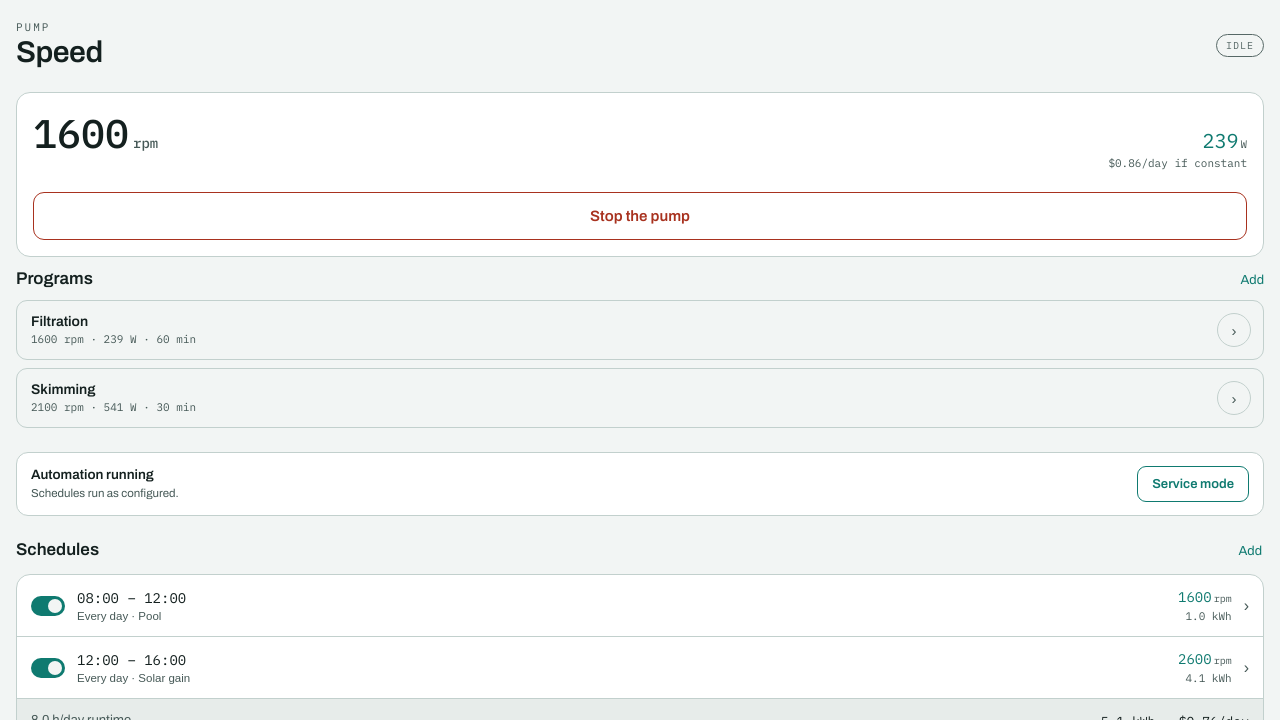
Test: Pump — programs › opens the editor for an existing program
Step 1. Click the button named "Edit Filtration" → (1234,330), box [1217, 313, 1251, 347]
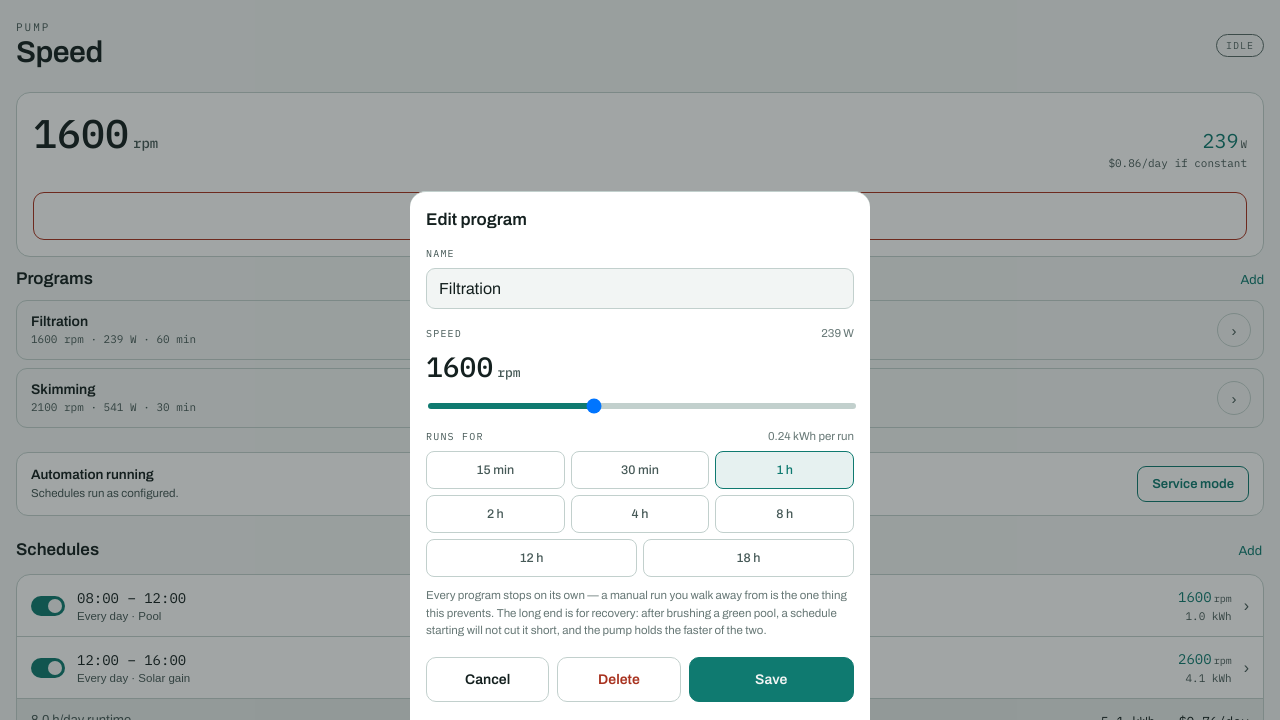
Expected: the dialog is shown, [410, 191, 870, 719]
